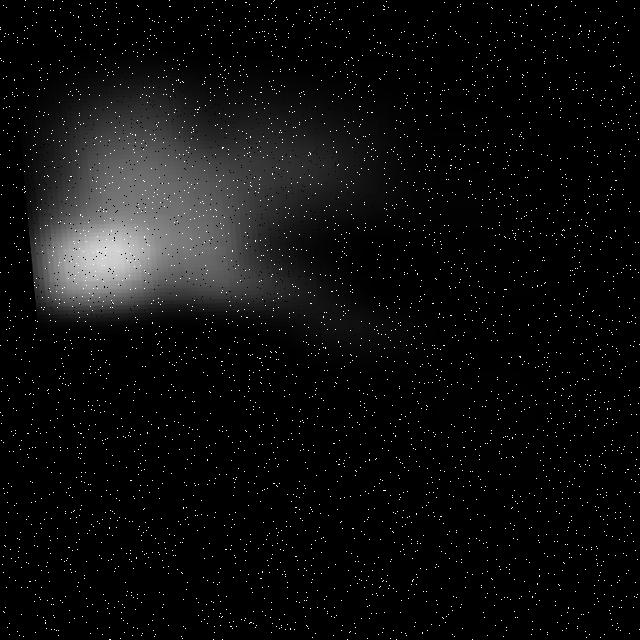person: (7, 56, 459, 359)
